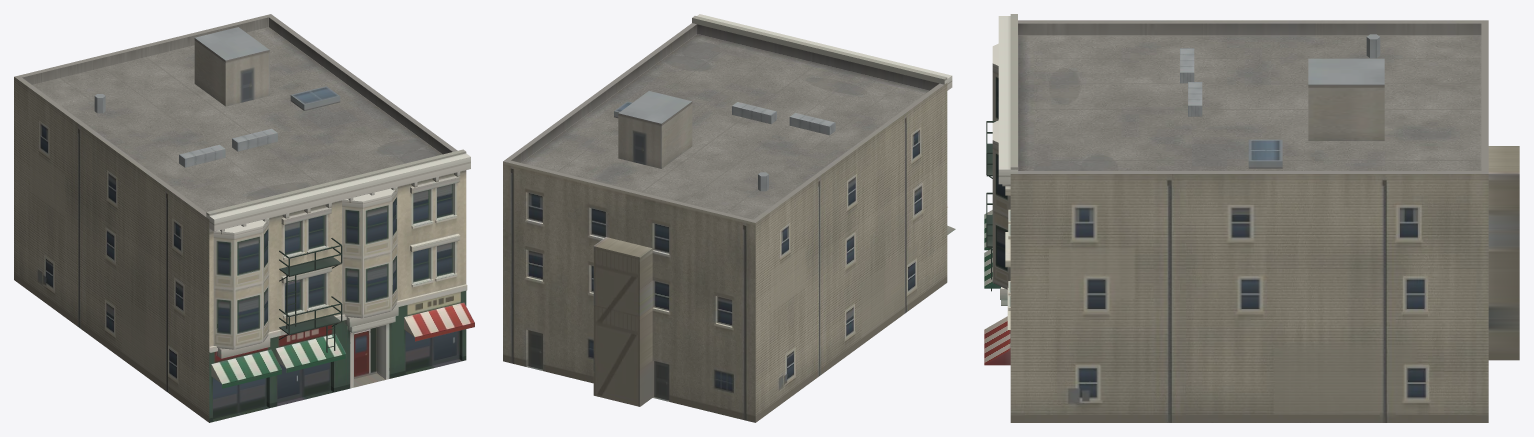
The model's file is sf_victorian_f.glb.
3 renders of one model, left to right at view 1: azimuth 30°, elevation 25°; view 2: azimuth 150°, elevation 25°; view 3: azimuth 270°, elevation 25°, orthographic. The views are drawn at different scales.
Visible parts, largest first — view 1: sf_victorian_f; view 2: sf_victorian_f; view 3: sf_victorian_f.
Boxes of the visible parts, <box> form: sf_victorian_f: <box>14,14,474,422</box>; sf_victorian_f: <box>503,14,955,422</box>; sf_victorian_f: <box>984,14,1519,422</box>.
Size of the model in its own units: 15.2 by 13.55 by 22.4.
Materials: 1 (1 with a texture image).
